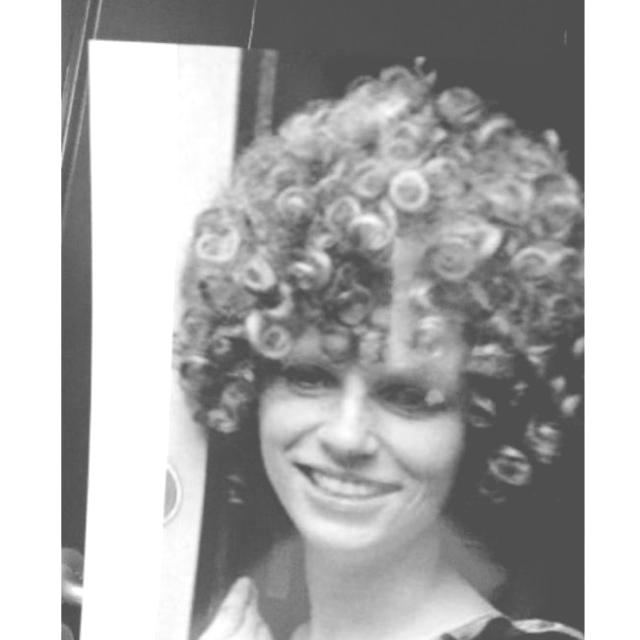fake: (78, 33, 582, 640)
